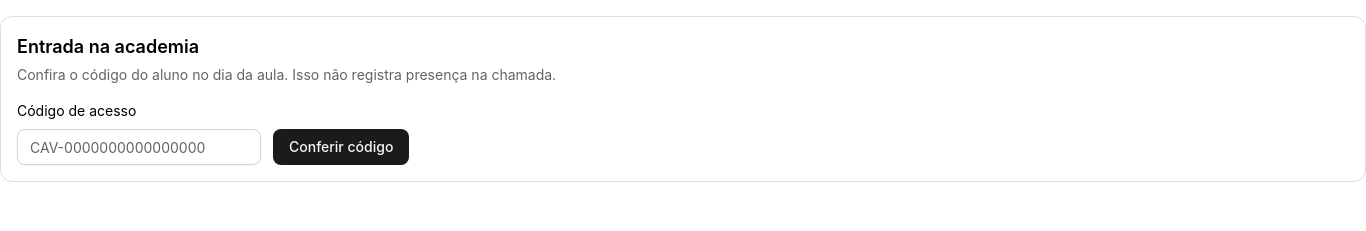
Test: does not send malformed codes
Type "CAV-1234" into the field labelled "Código de acesso".
click(139, 147); type("CAV-1234")  # box [17,129,261,165]
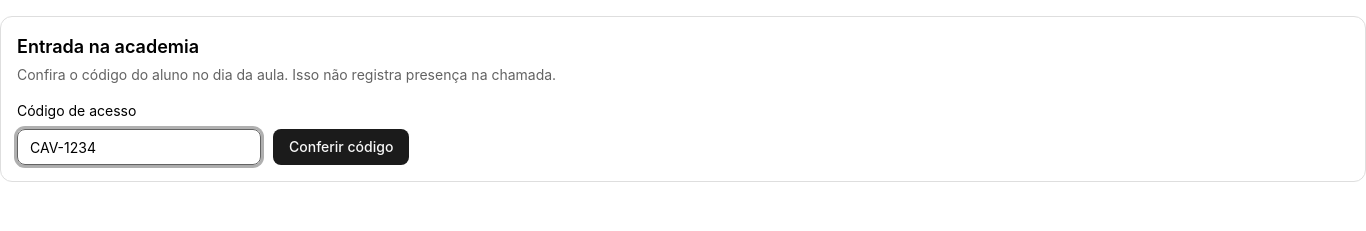
Click the button "Conferir código".
click(341, 147)  # box [273,129,409,165]
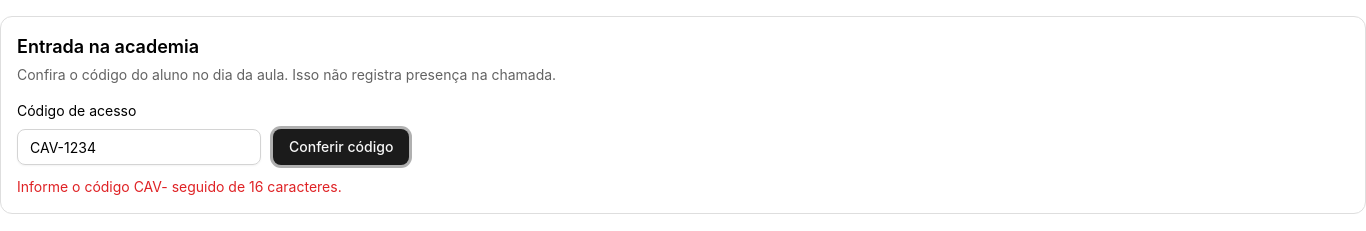
Check: the message shows "Informe o código", box [17,178,342,195]
